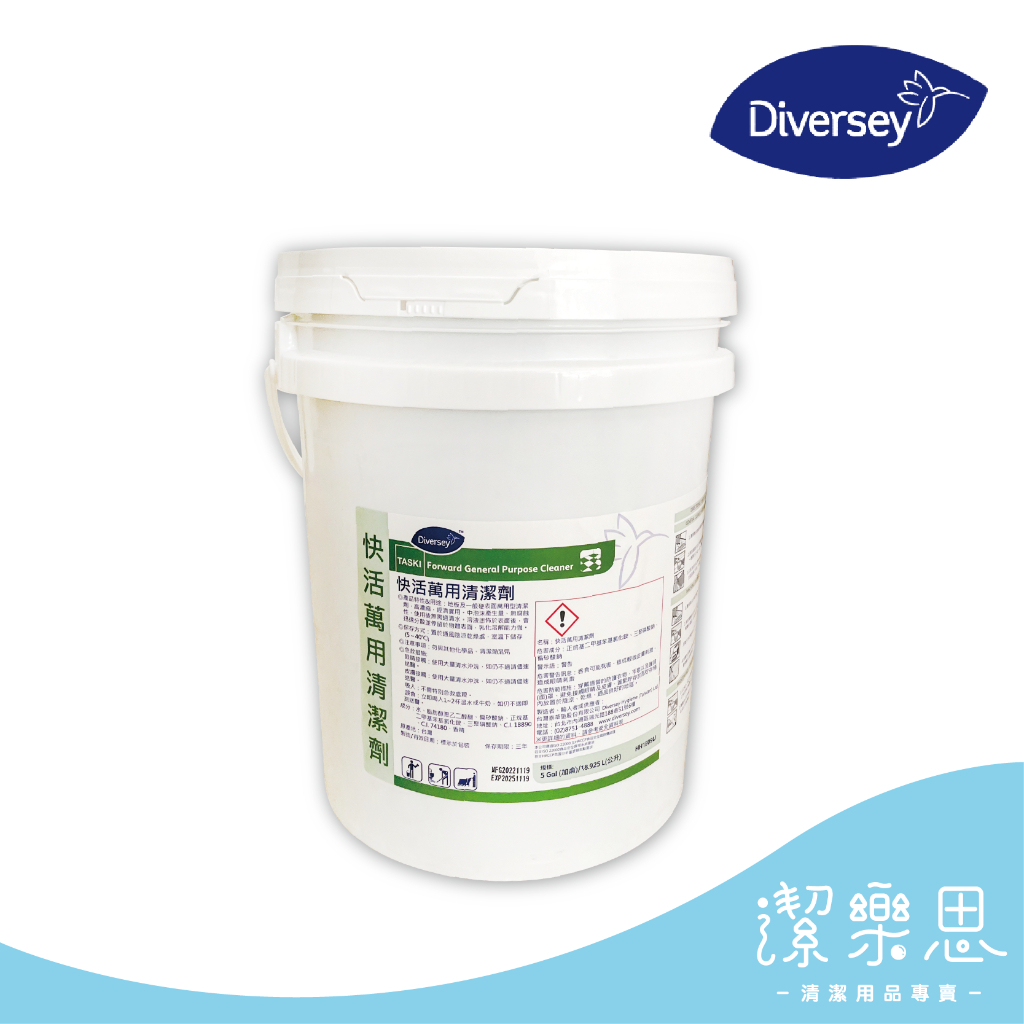cleaner: (242, 227, 733, 884)
